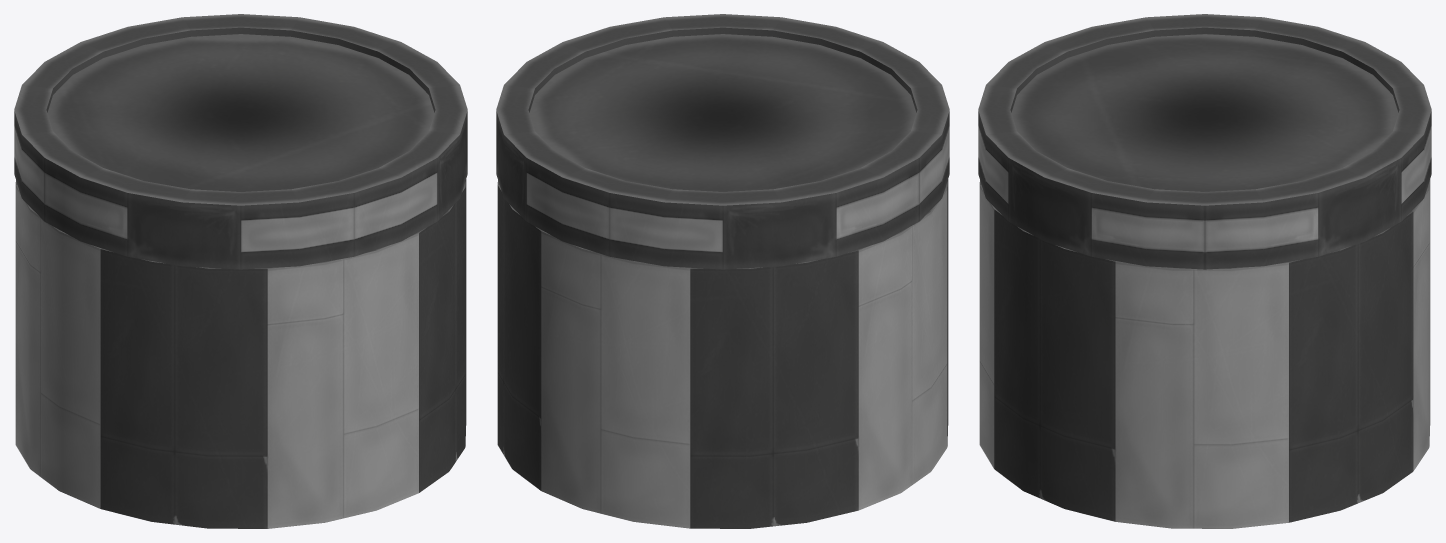
The model's file is LR91_Mod4.dae.
3 renders of one model, left to right at view 1: azimuth 30°, elevation 25°; view 2: azimuth 150°, elevation 25°; view 3: azimuth 270°, elevation 25°, orthographic.
Parts seen in each view (by area): view 1: fairing, TitanEnginePlate1; view 2: fairing, TitanEnginePlate1; view 3: fairing, TitanEnginePlate1.
Part boxes in pixels (x1,y1,x2,y2): fairing: [15, 179, 466, 528]; TitanEnginePlate1: [14, 14, 467, 269]; fairing: [497, 179, 948, 528]; TitanEnginePlate1: [496, 14, 949, 269]; fairing: [979, 179, 1430, 528]; TitanEnginePlate1: [978, 14, 1431, 269].
Bounding box in the file's own units: 1.88 × 1.48 × 1.88.
